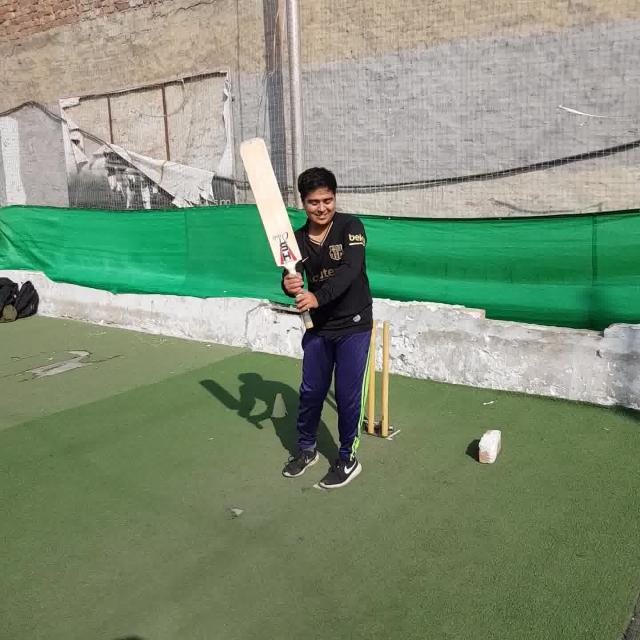bat: (241, 137, 314, 330)
